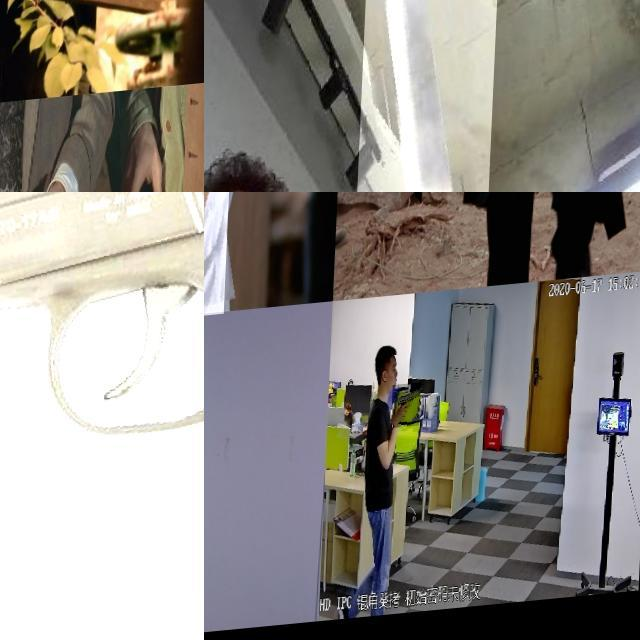-: (352, 0, 502, 192)
gun-knife-thesis - v11 Yolov5 augmented: (0, 192, 204, 640), (8, 0, 192, 56), (204, 192, 270, 339), (507, 192, 586, 285), (204, 420, 242, 582), (0, 0, 31, 50), (396, 391, 424, 436)
